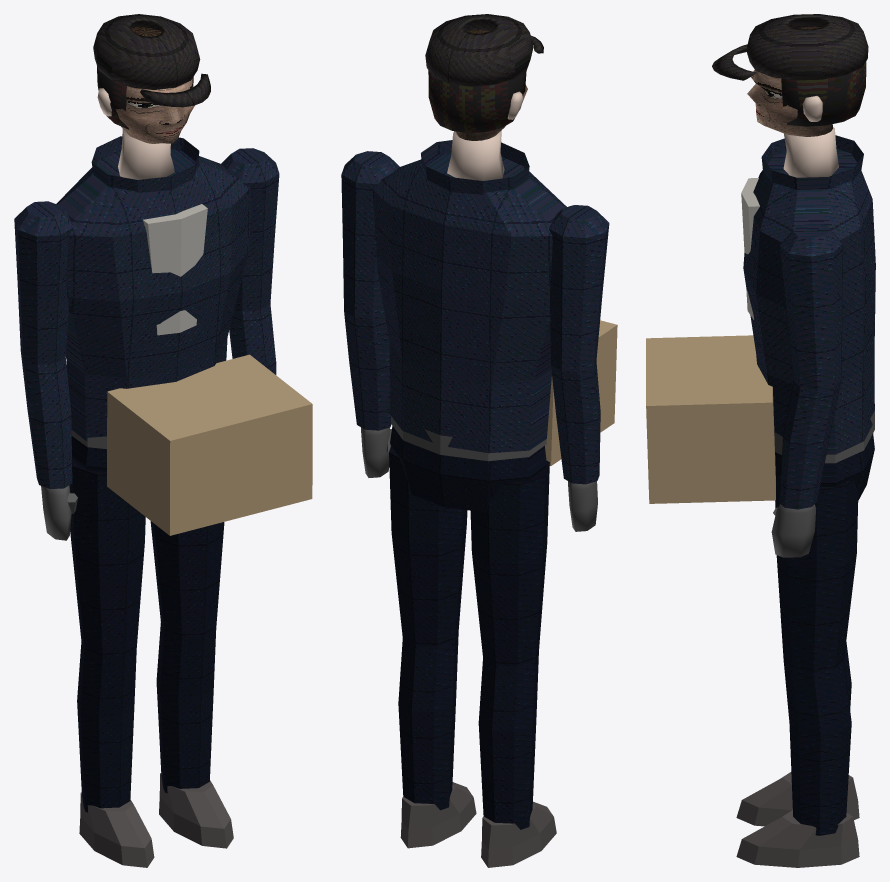
File: char_resident_c.glb
3 renders of one model, left to right at view 1: azimuth 30°, elevation 25°; view 2: azimuth 150°, elevation 25°; view 3: azimuth 270°, elevation 25°, orthographic.
Parts seen in each view (by area): view 1: JacketTorso, DeliveryCrate, LegL_Pivot_Leg, LegR_Pivot_Leg, ArmSleeve_L, ArmSleeve_R, CapDome, ShirtCollar, LegL_Pivot_Boot, LegR_Pivot_Boot, OrganicHeadMesh, JacketCollarRim (+5 smaller); view 2: JacketTorso, LegL_Pivot_Leg, LegR_Pivot_Leg, ArmSleeve_L, ArmSleeve_R, CapDome, Pelvis, HairUnderCap, LegR_Pivot_Boot, LegL_Pivot_Boot, DeliveryCrate, JacketCollarRim (+4 smaller); view 3: LegR_Pivot_Leg, DeliveryCrate, JacketTorso, ArmSleeve_R, CapDome, LegR_Pivot_Boot, HairUnderCap, OrganicHeadMesh, LegL_Pivot_Boot, NeckOrganic, JacketCollarRim, Hand_R (+4 smaller).
Part boxes in pixels (bbox=[...]): JacketTorso: bbox=[56, 149, 250, 440]; DeliveryCrate: bbox=[107, 354, 312, 535]; LegL_Pivot_Leg: bbox=[69, 459, 145, 812]; LegR_Pivot_Leg: bbox=[150, 521, 224, 793]; ArmSleeve_L: bbox=[14, 201, 73, 488]; ArmSleeve_R: bbox=[221, 148, 279, 374]; CapDome: bbox=[93, 14, 200, 89]; ShirtCollar: bbox=[143, 204, 207, 335]; LegL_Pivot_Boot: bbox=[79, 792, 154, 867]; LegR_Pivot_Boot: bbox=[159, 773, 233, 848]; OrganicHeadMesh: bbox=[115, 27, 194, 143]; JacketCollarRim: bbox=[91, 136, 199, 192]; JacketTorso: bbox=[372, 153, 566, 453]; LegL_Pivot_Leg: bbox=[470, 461, 549, 829]; LegR_Pivot_Leg: bbox=[389, 447, 467, 810]; ArmSleeve_L: bbox=[548, 205, 609, 484]; ArmSleeve_R: bbox=[341, 151, 399, 430]; CapDome: bbox=[425, 14, 533, 86]; Pelvis: bbox=[390, 425, 546, 512]; HairUnderCap: bbox=[428, 70, 526, 132]; LegR_Pivot_Boot: bbox=[400, 782, 476, 848]; LegL_Pivot_Boot: bbox=[481, 801, 556, 867]; DeliveryCrate: bbox=[545, 320, 617, 465]; JacketCollarRim: bbox=[421, 140, 529, 194]; LegR_Pivot_Leg: bbox=[775, 476, 858, 835]; DeliveryCrate: bbox=[646, 335, 775, 503]; JacketTorso: bbox=[743, 149, 875, 454]; ArmSleeve_R: bbox=[779, 223, 843, 509]; CapDome: bbox=[746, 14, 868, 80]; LegR_Pivot_Boot: bbox=[736, 810, 859, 867]; HairUnderCap: bbox=[781, 61, 866, 126]; OrganicHeadMesh: bbox=[747, 26, 832, 136]; LegL_Pivot_Boot: bbox=[736, 772, 859, 826]; NeckOrganic: bbox=[783, 127, 838, 177]; JacketCollarRim: bbox=[761, 135, 863, 189]; Hand_R: bbox=[771, 504, 816, 557].
Size of the model in its own units: 0.6161 by 1.84 by 0.4712.
Materials: 10 (5 with a texture image).
